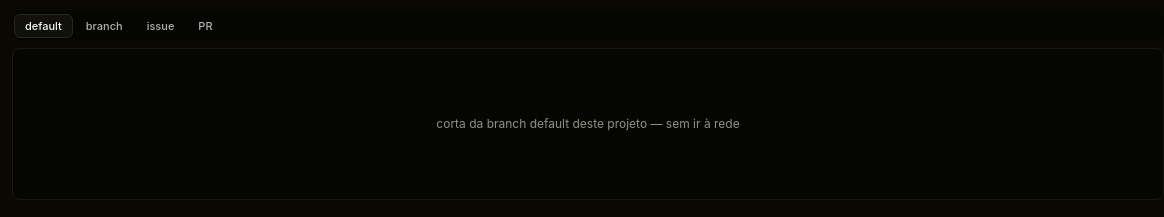
Scenario: sem host › sem rede, a aba fica e a lista explica
Step 1. Click the button "issue" → (160, 26), box 136,14 -> 185,38
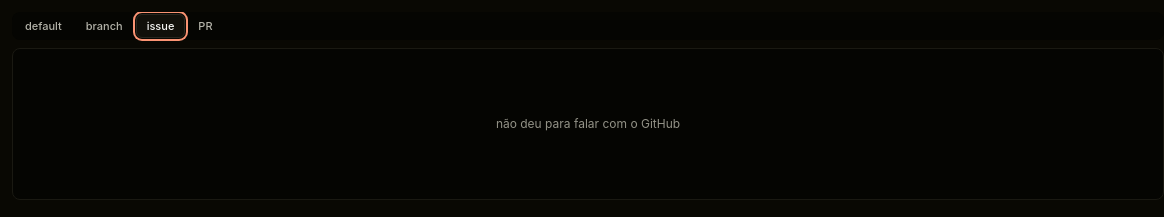
Check: the text "não deu para falar com o GitHub" is shown, box 496,116 -> 680,132
